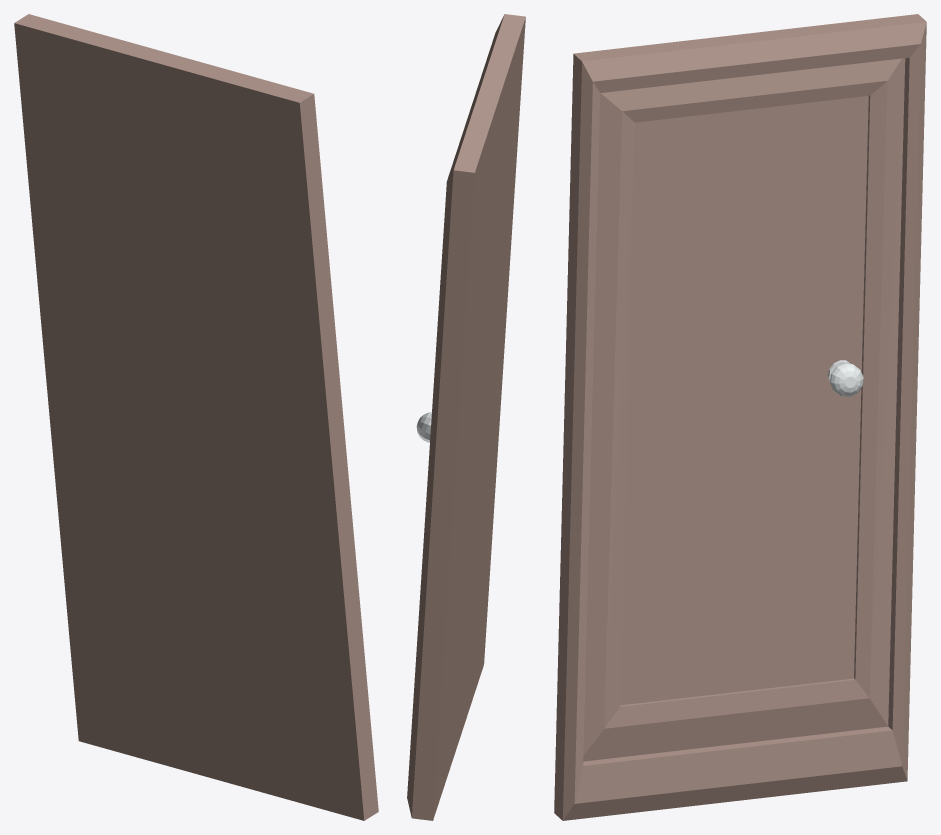
Rendered from door.glb.
3 renders of one model, left to right at view 1: azimuth 30°, elevation 25°; view 2: azimuth 150°, elevation 25°; view 3: azimuth 270°, elevation 25°, orthographic. The views are drawn at different scales.
Parts seen in each view (by area): view 1: group1957211378; view 2: group1957211378, group1181464856; view 3: group1957211378, group1181464856.
Boxes of the visible parts, box(x1,y1,x2,y2) form: group1957211378: box(14, 14, 378, 820); group1957211378: box(407, 14, 525, 820); group1181464856: box(416, 412, 431, 442); group1957211378: box(554, 14, 926, 820); group1181464856: box(827, 360, 863, 396).
Bounding box in the file's own units: 0.7132 × 2.65 × 1.19.
